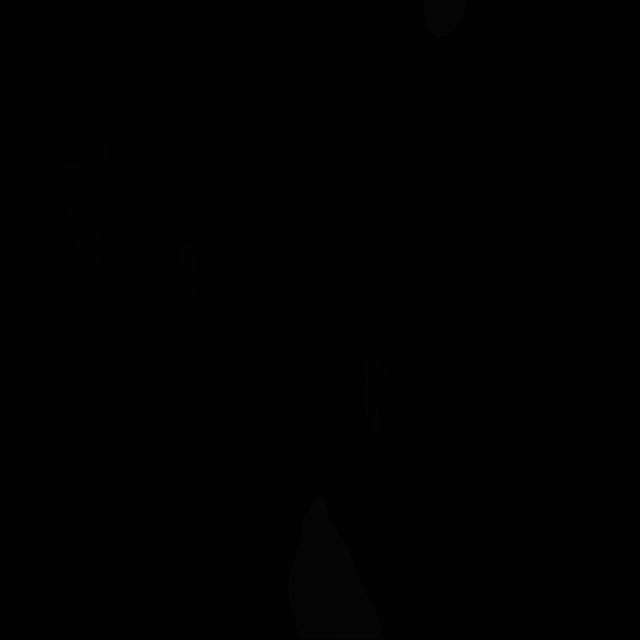cardboard: (362, 359, 388, 436), (174, 242, 201, 298)
rigid_plastic: (62, 125, 116, 285)
soft_plastic: (288, 493, 384, 640), (423, 0, 467, 36)
